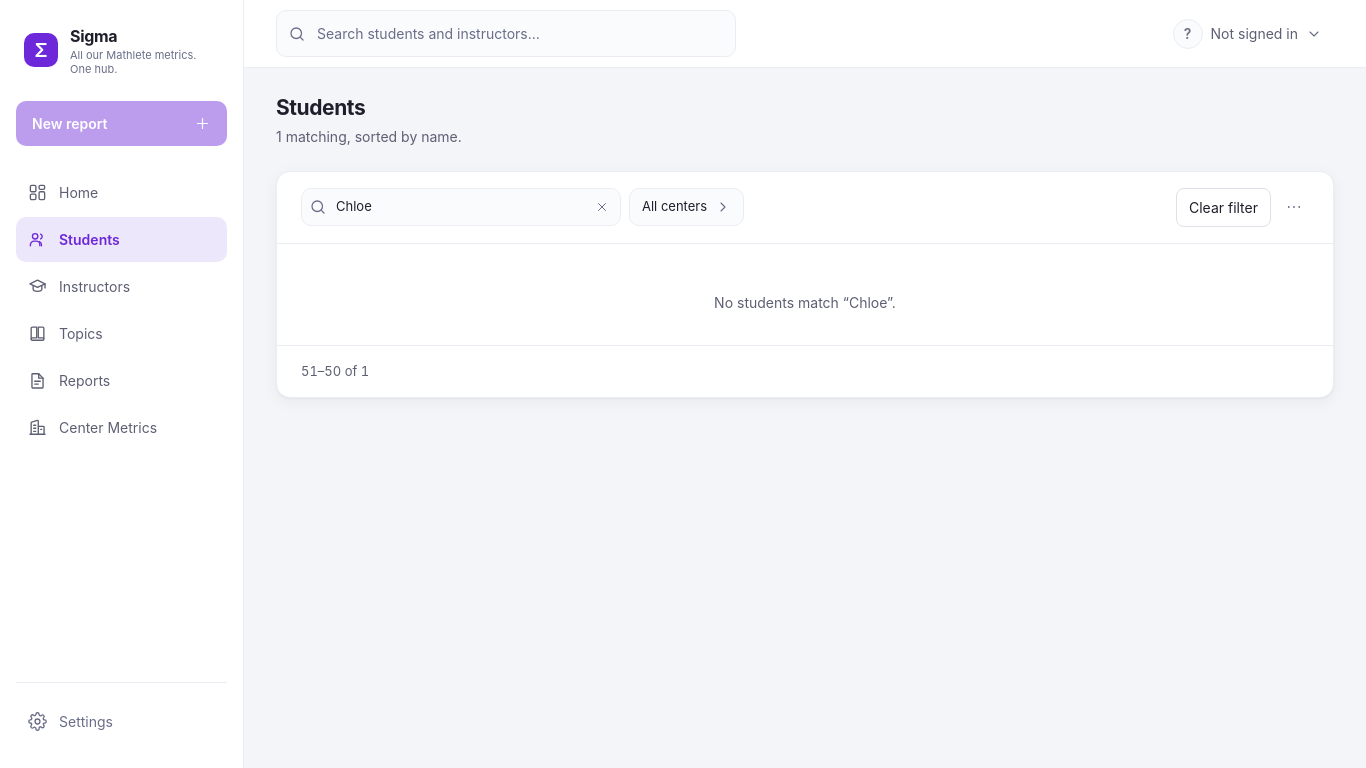
Test: students page › clears the search from a button in the field
Expected: the search field named "Search students by name" holds "Chloe", [301,188,621,226]
Step 1. Click the button named "clear search" → (602, 207), box [591,196,613,218]
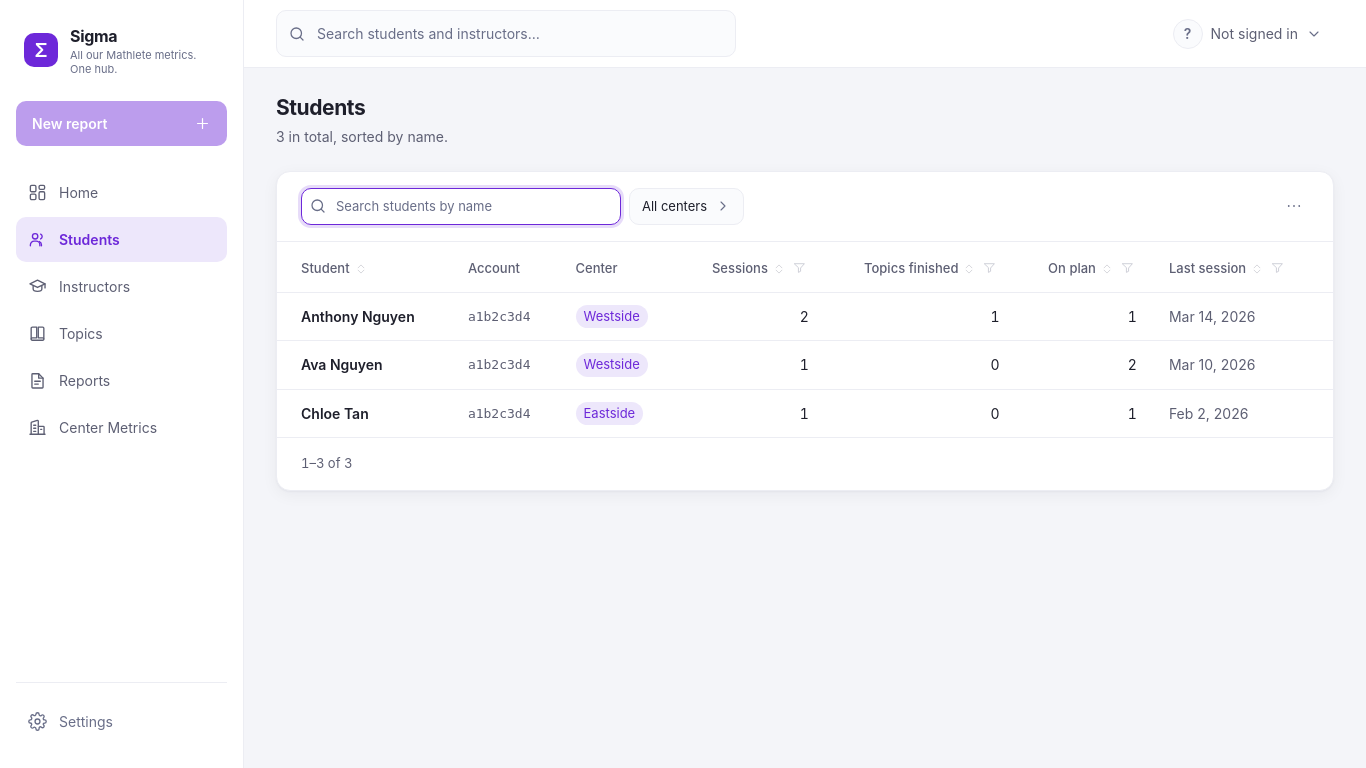
Result: the search field labelled "Search students by name" is empty at [301,188,621,225]
Result: the row "Anthony Nguyen a1b2c3d4 Westside 2 1 1 Mar 14, 2026" is shown at [277,292,1333,340]
